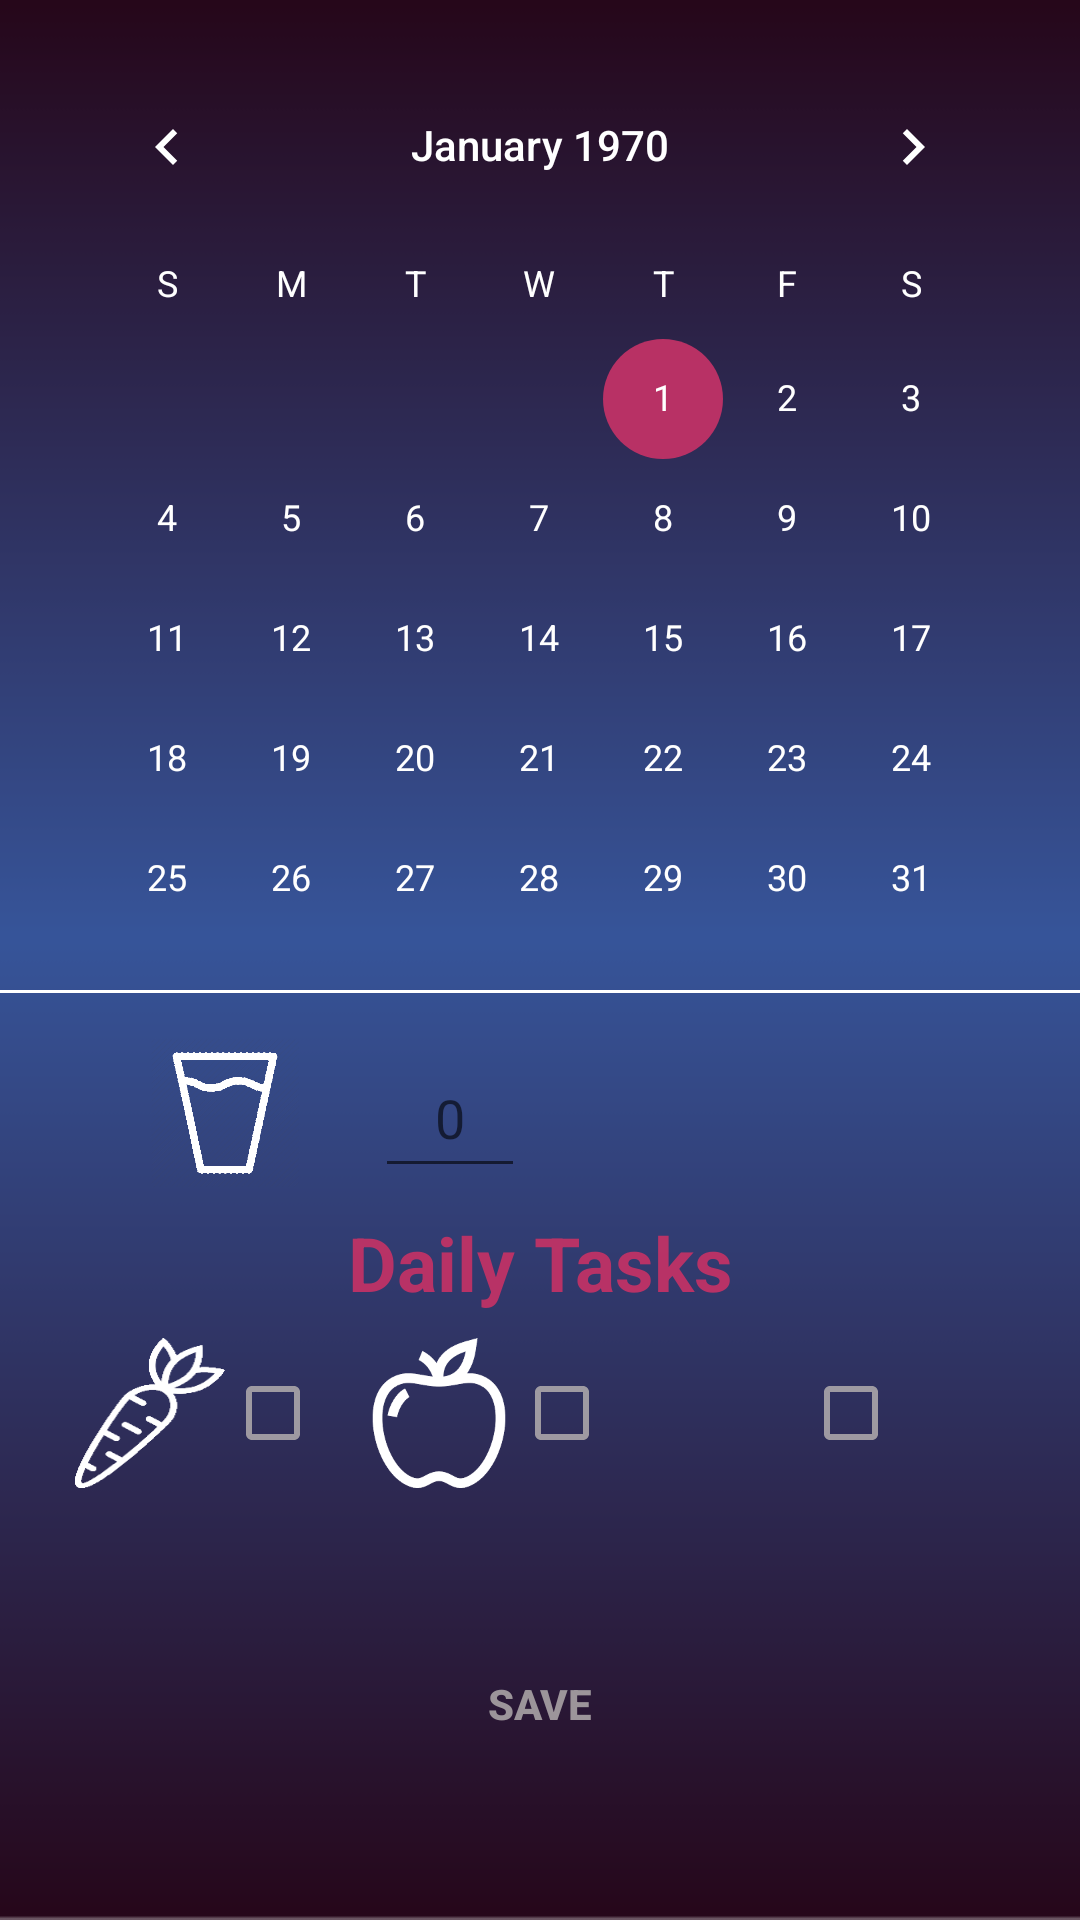

Icons on this 1080px x 1920px Android screen, each with its box as bbox=[x1, y1, x2, y2]:
daily fruit: bbox=[372, 1338, 506, 1488]
daily vegetable: bbox=[75, 1338, 225, 1488]
water cup: bbox=[172, 1052, 278, 1174]
